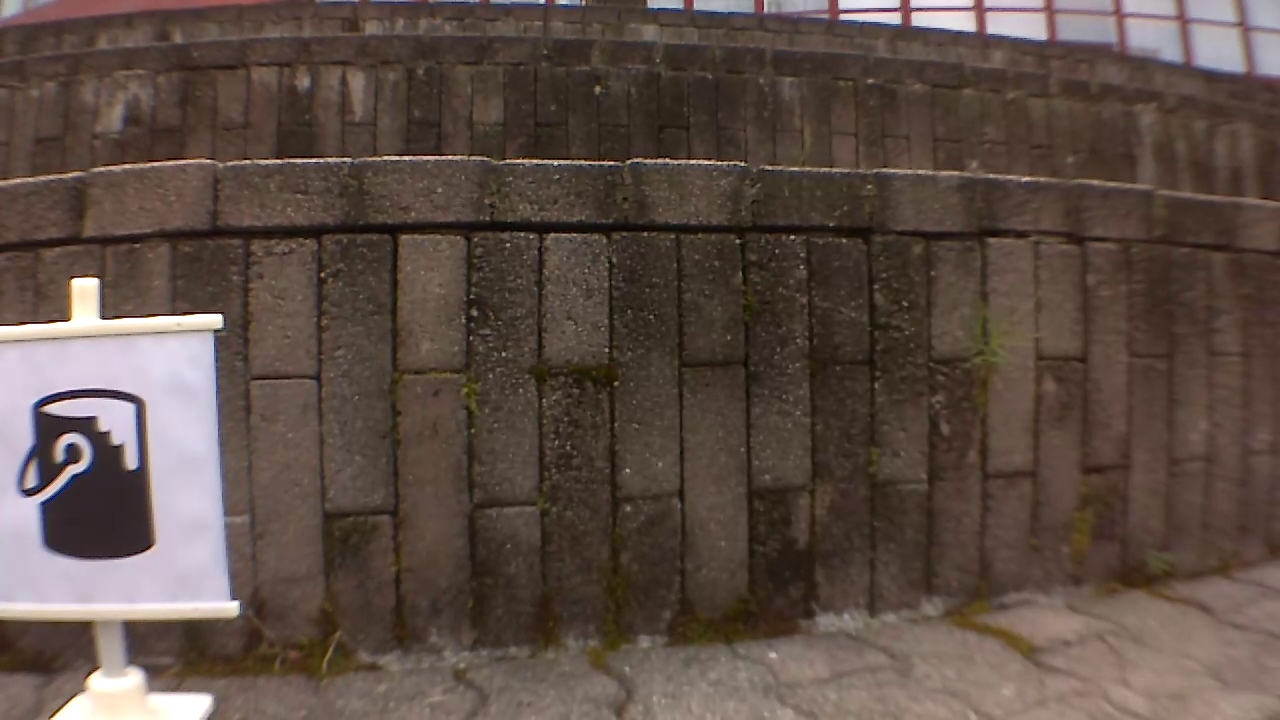bucket: (12, 382, 158, 559)
